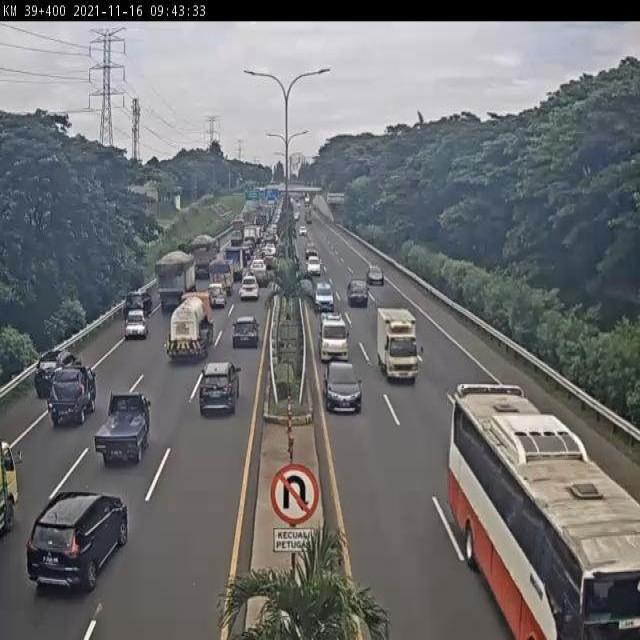big bus: (446, 384, 640, 640)
car: (25, 489, 129, 600), (94, 393, 150, 464), (46, 362, 98, 430), (196, 360, 241, 419), (33, 345, 82, 399), (324, 362, 361, 418), (319, 313, 351, 367), (231, 315, 261, 349), (122, 309, 151, 344), (122, 291, 155, 321), (346, 275, 369, 308), (313, 283, 335, 316), (237, 278, 259, 306), (208, 281, 229, 308), (366, 262, 384, 286)
small truck: (377, 305, 425, 387)
truck-m-: (164, 291, 217, 368), (154, 251, 197, 320)
